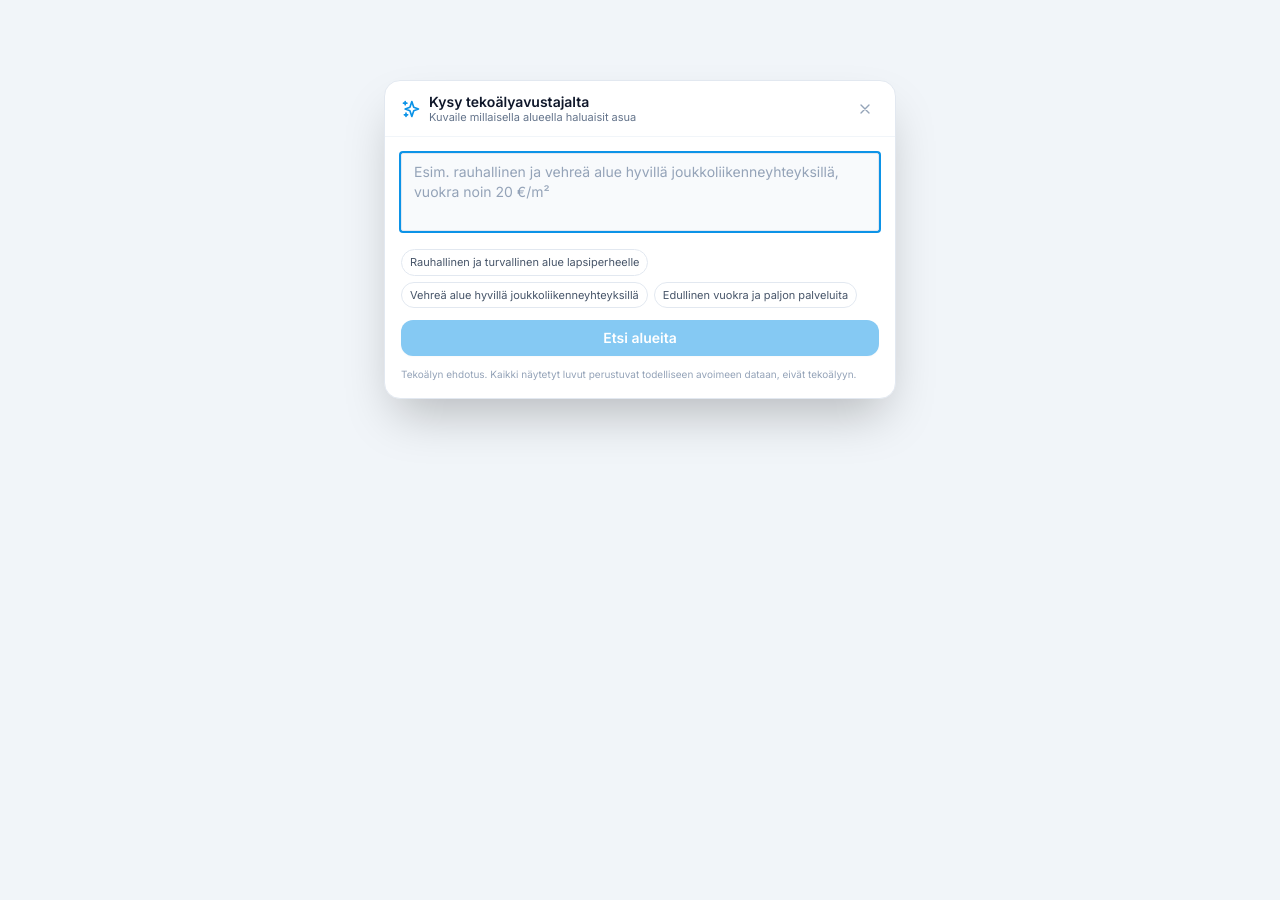
AssistantPanel › surfaces an error from the backend
Step 1. Replace the text in the text box with "anything" → (640, 192), box [401, 153, 879, 231]
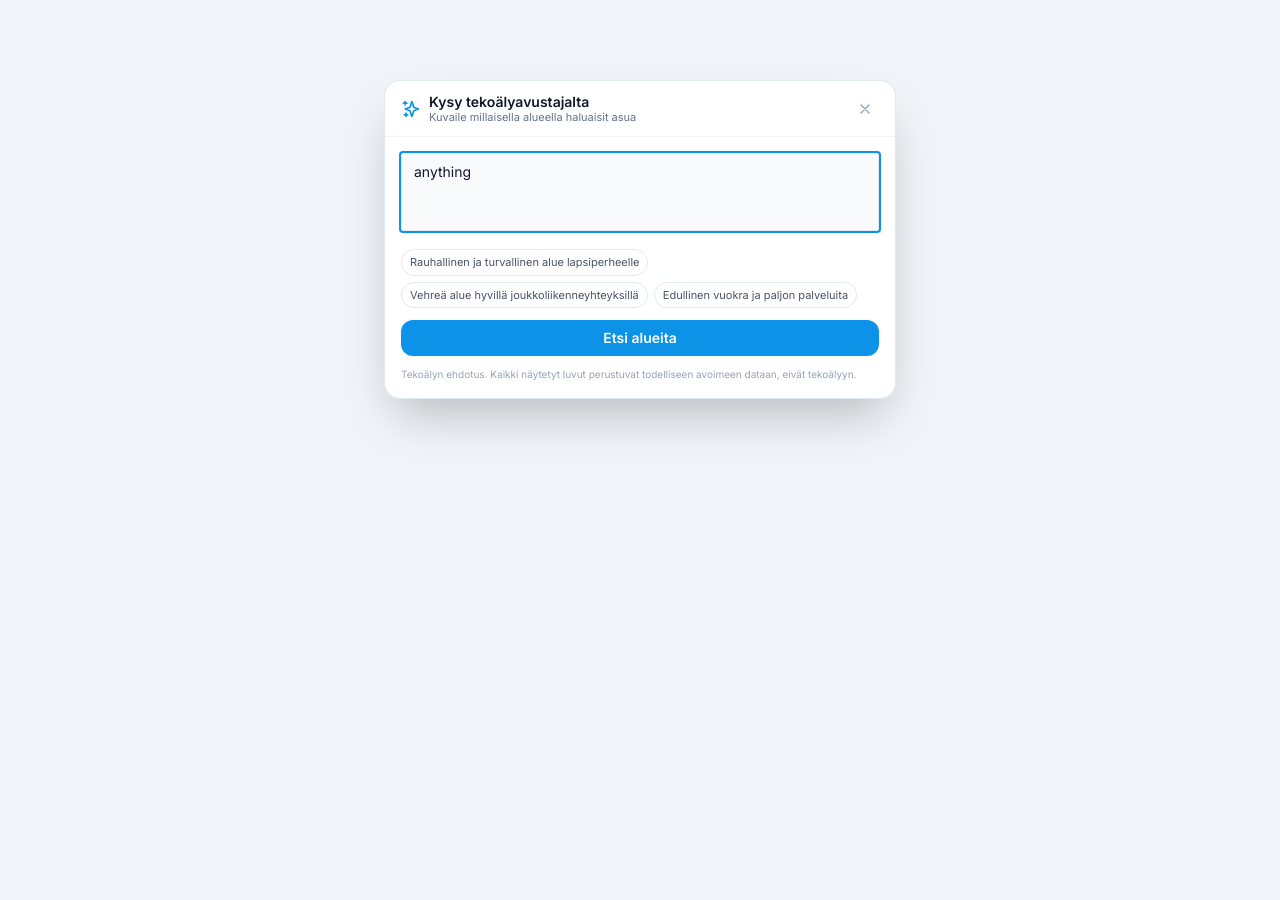
Step 2. Click the button "Etsi alueita" → (640, 338), box [401, 320, 879, 356]
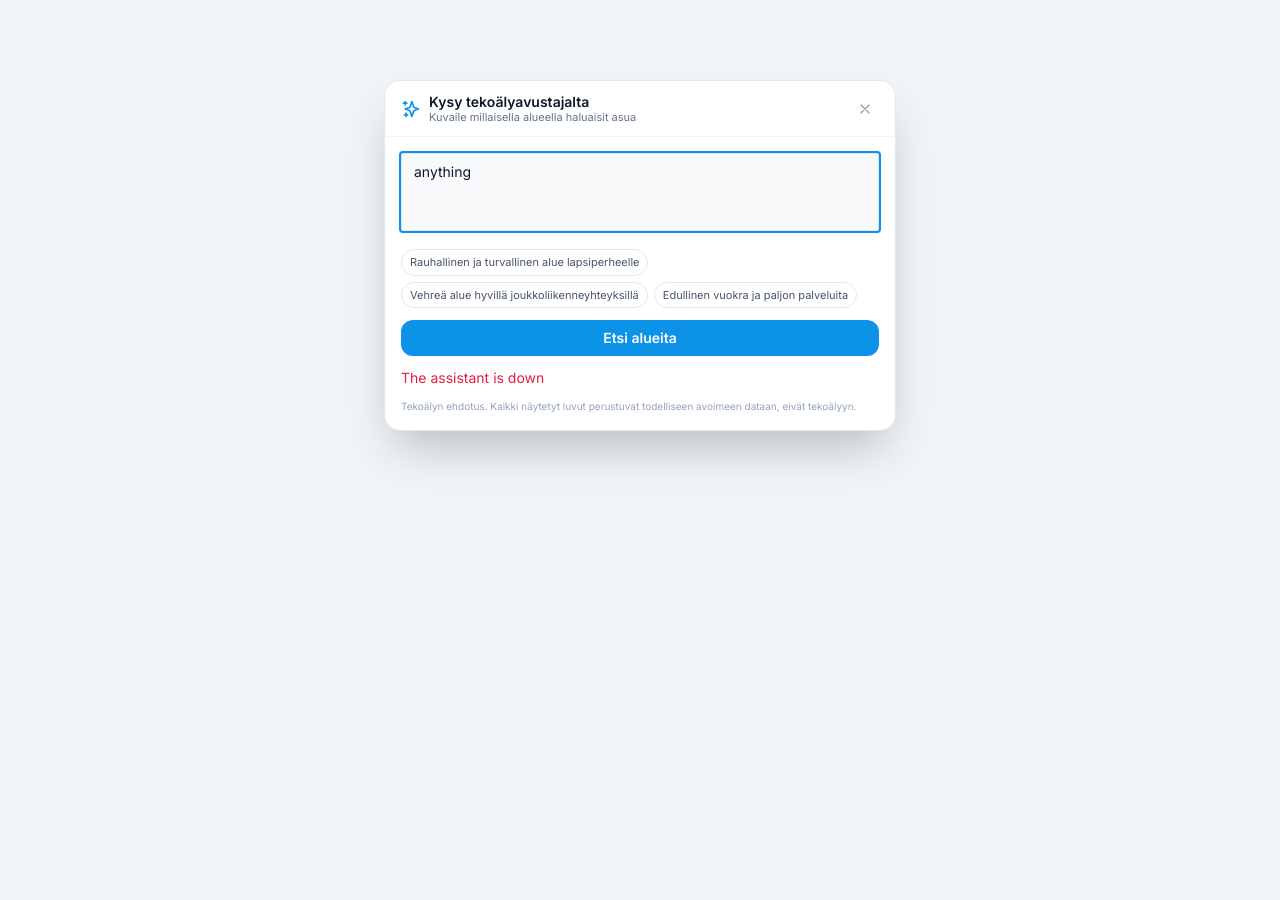
Expected: the message reads "The assistant is down", [401, 369, 544, 386]
